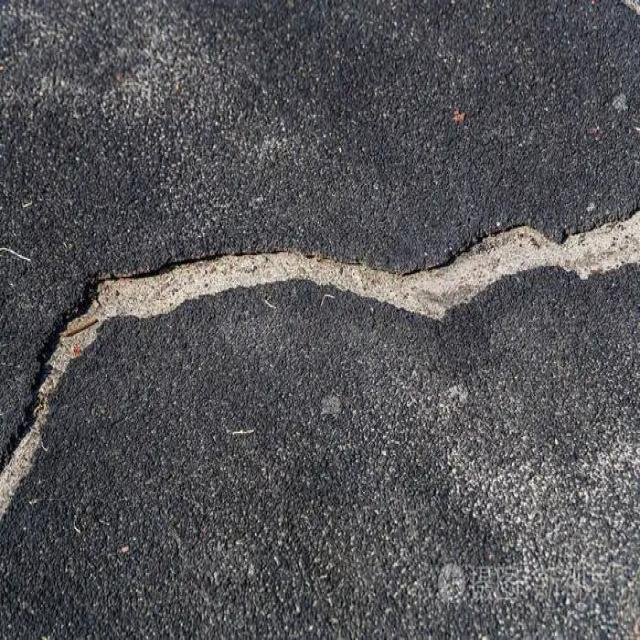Pothole: (1, 198, 639, 516)
